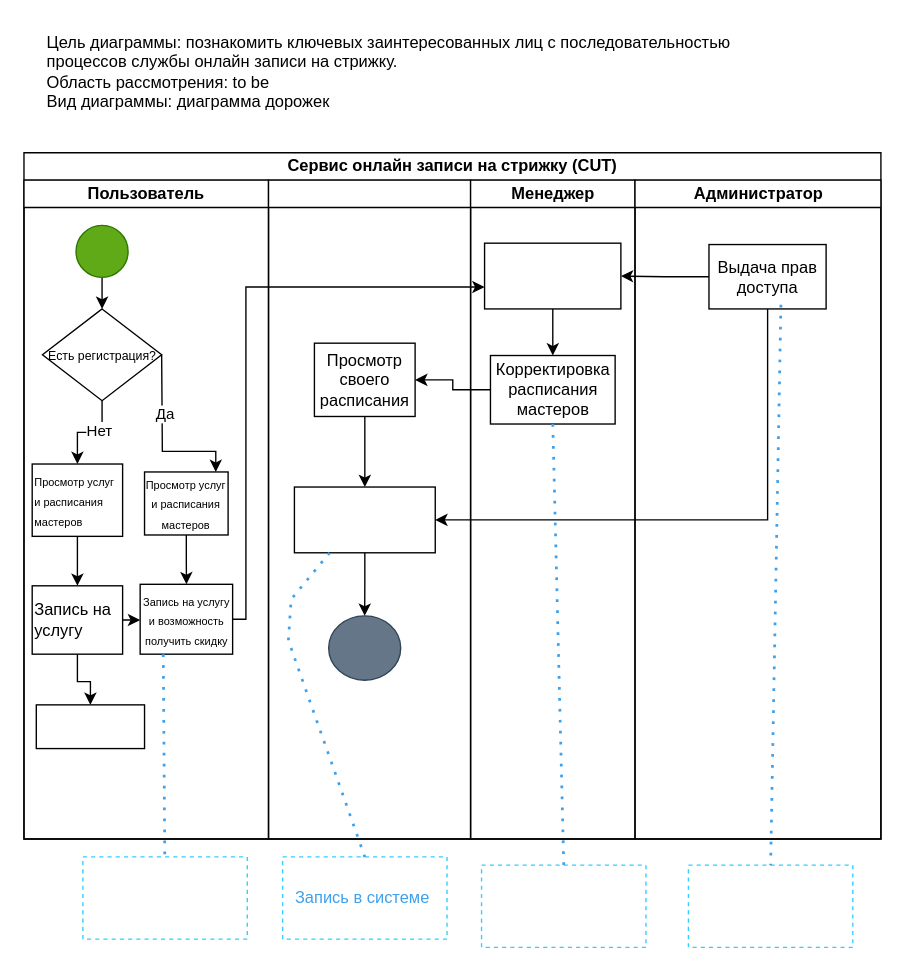
Image size: 906x971. Some labels were removed from this diagram. Each missing label, with the box of its shape:
Возможность регистрации: (35, 703, 145, 749)
Запись в системе о корректировке: (480, 864, 646, 947)
Мастер: (267, 179, 471, 839)
Назначение мастера: (483, 242, 621, 309)
Подтверждение выдачи прав: (687, 864, 853, 947)
Подтверждение записи: (293, 486, 435, 553)
Формирование запроса на запись в системе: (82, 856, 247, 939)
